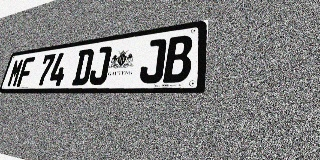4: (48, 52, 69, 86)
7: (35, 54, 56, 86)
B: (163, 34, 193, 83)
D: (72, 48, 95, 85)
F: (16, 57, 35, 87)
J: (138, 38, 167, 83), (88, 46, 112, 85)
M: (6, 58, 25, 87)
